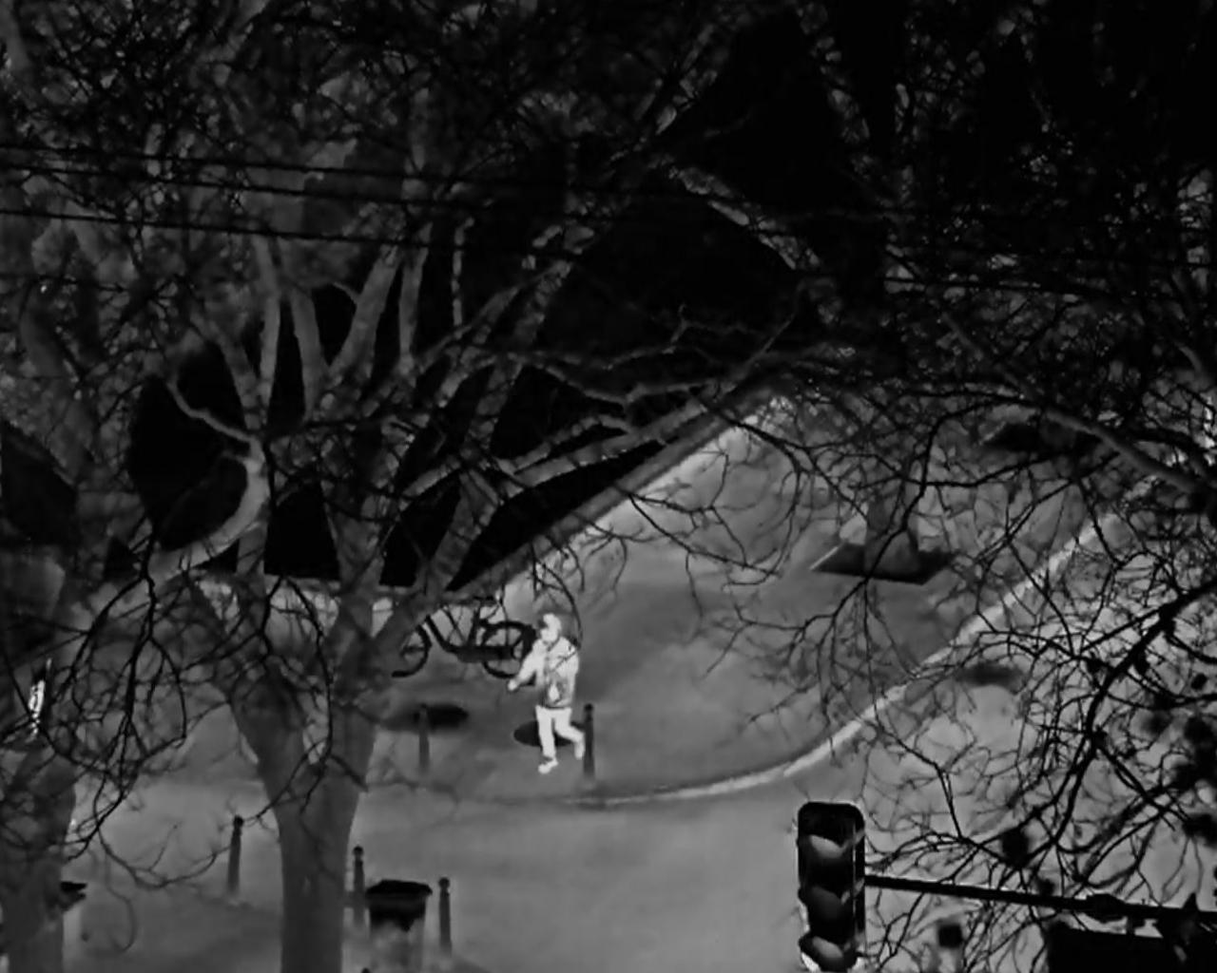person: (505, 611, 586, 776)
